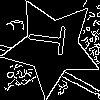T: (27, 21, 75, 57)
